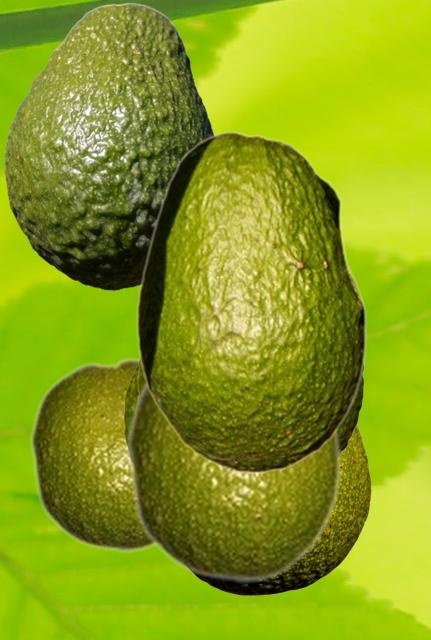avocado: (136, 130, 366, 473), (4, 2, 215, 289), (125, 381, 342, 584), (194, 425, 370, 594), (29, 356, 155, 553), (137, 359, 363, 455)
